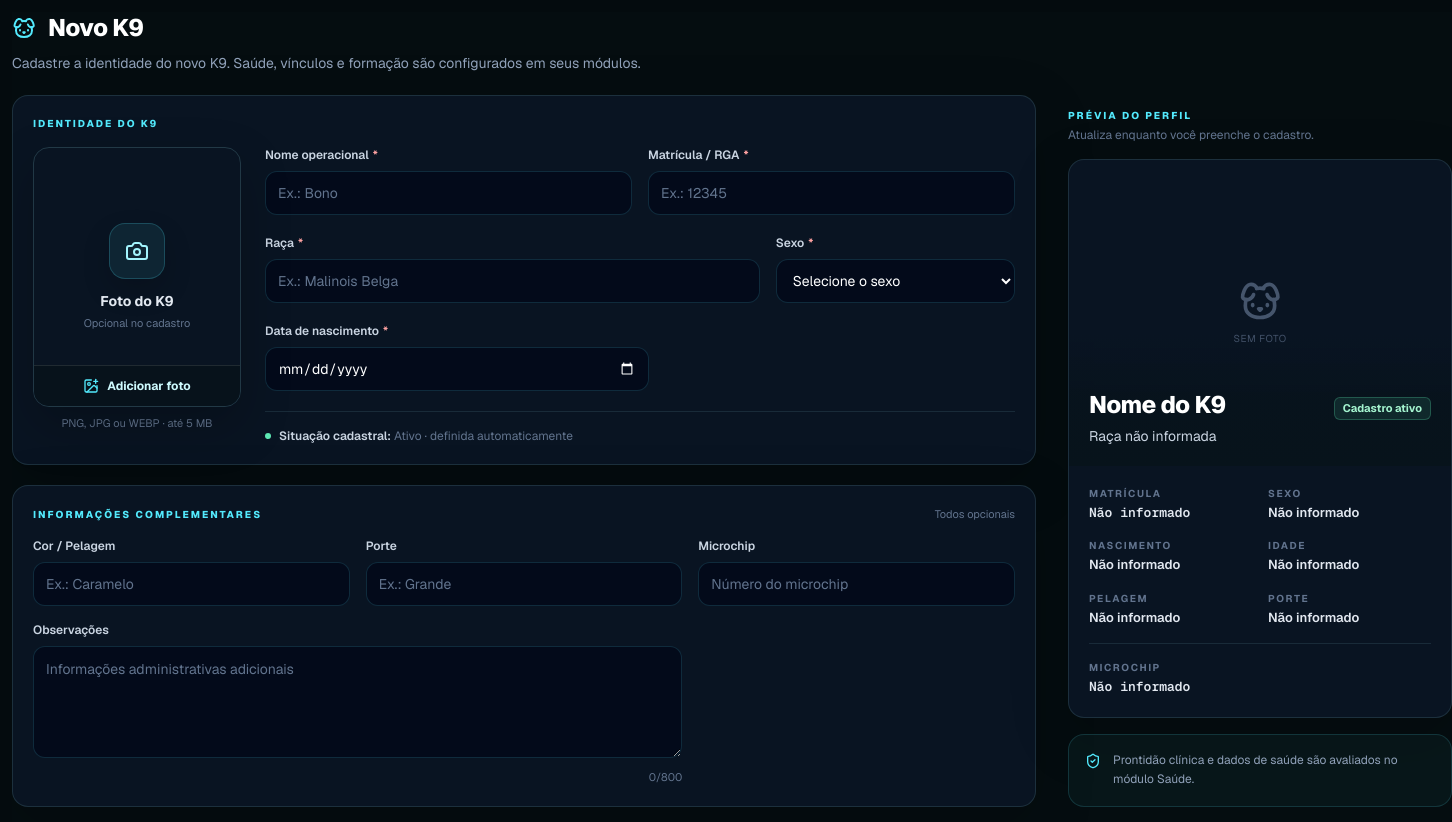
K9 Create V1 › reflete Macho e Fêmea na prévia conforme a seleção
Select "Macho" in the dropdown labelled "Sexo*". click: (895, 281)
box: [776,259,1015,303]
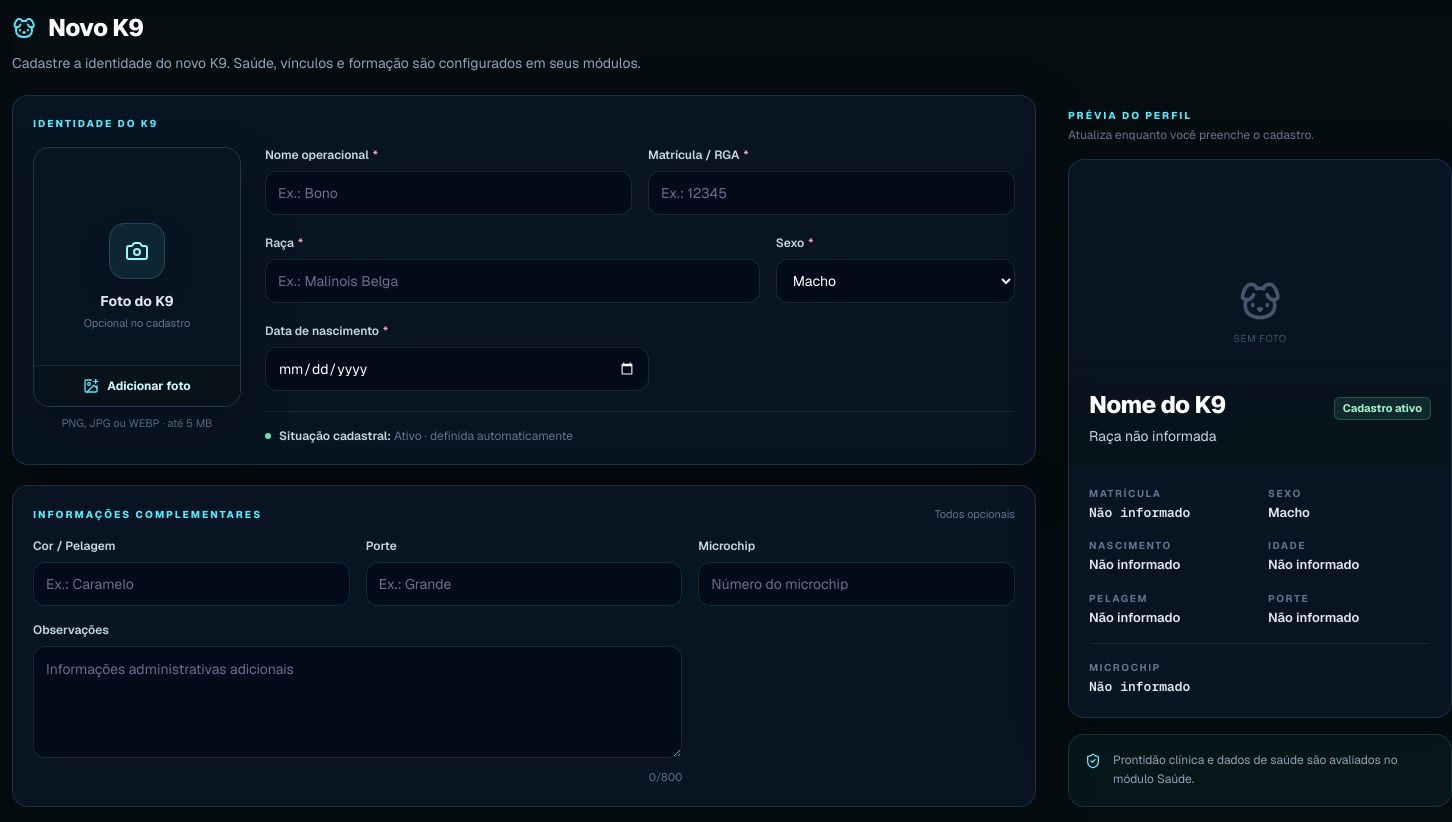
Check: the text "Macho" is shown, box [1268,504,1310,521]
Select "Fêmea" in the dropdown labelled "Sexo*". click: (895, 281)
box: [776,259,1015,303]
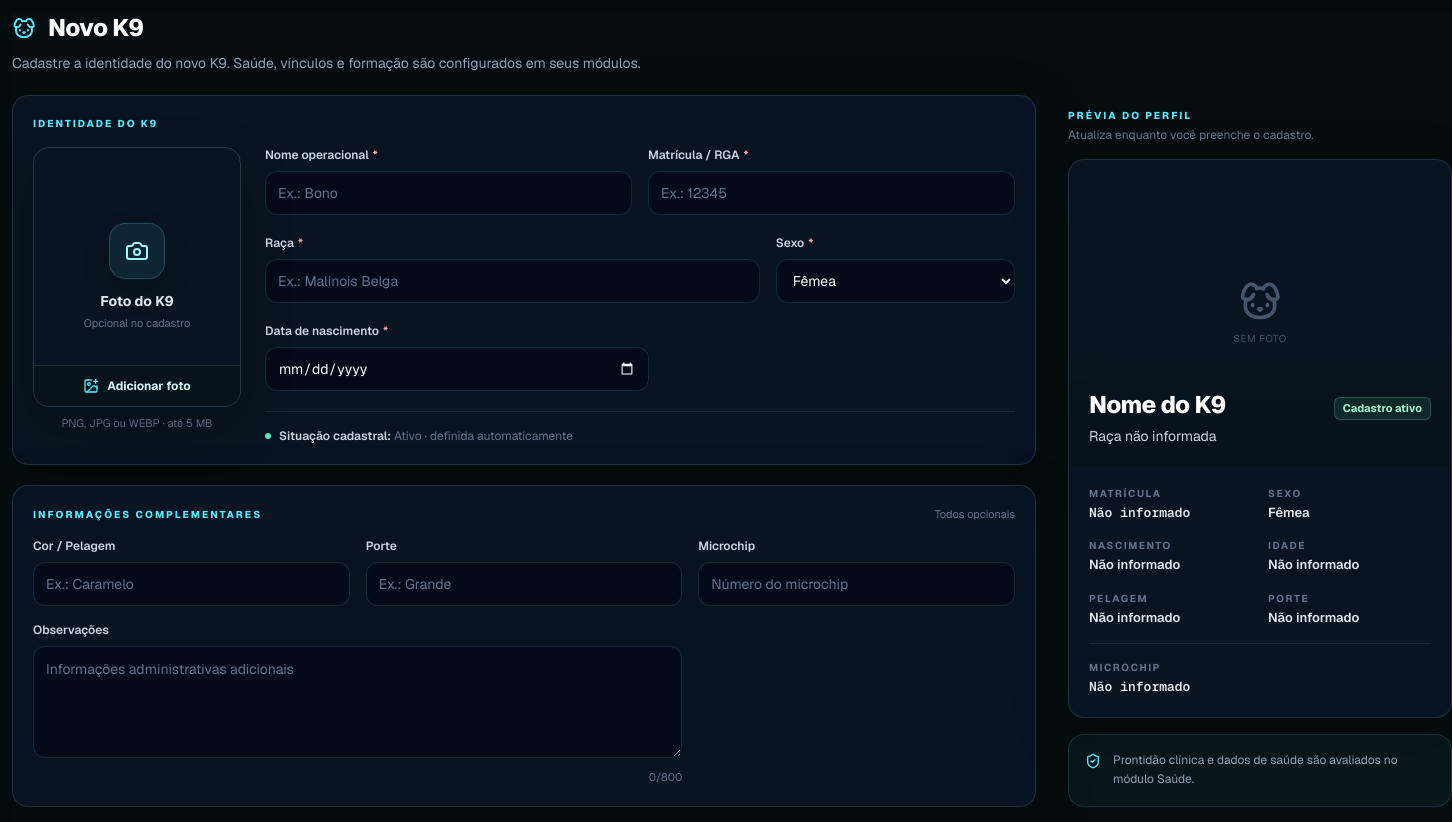
Check: the text "Fêmea" is shown, box [1268,504,1310,521]
Check: the text "Macho" is gone
